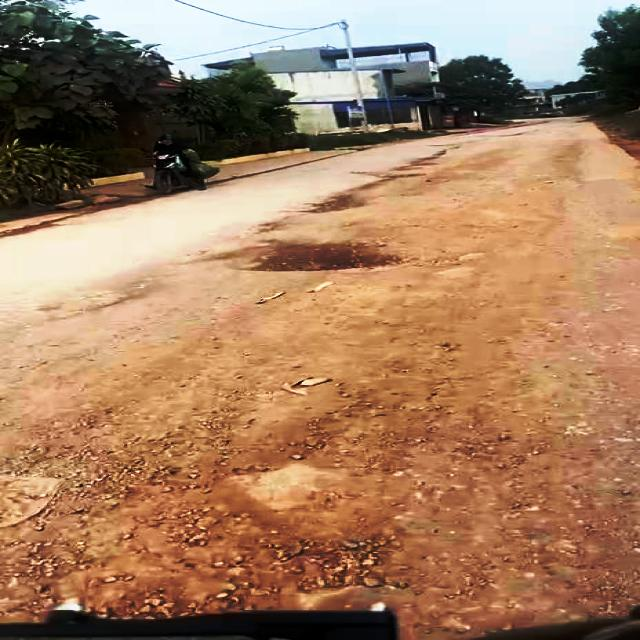pothole: (418, 178, 579, 273), (236, 231, 425, 274), (301, 188, 367, 214)
